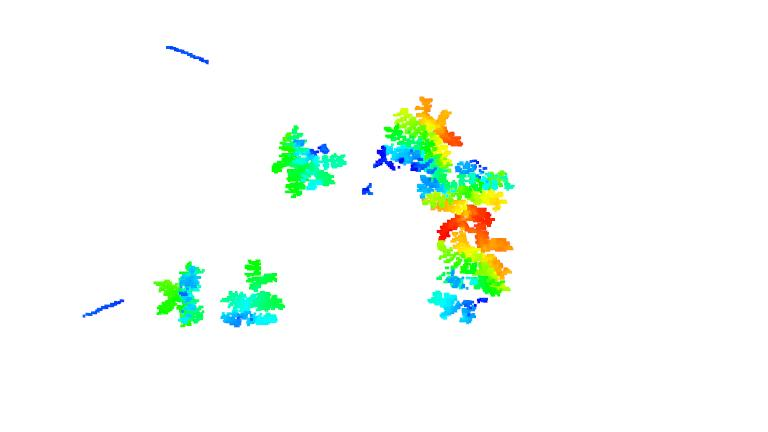chickpea: (361, 96, 466, 197), (419, 224, 514, 330), (421, 162, 535, 235), (267, 122, 348, 199), (216, 259, 287, 336), (152, 262, 214, 330)
